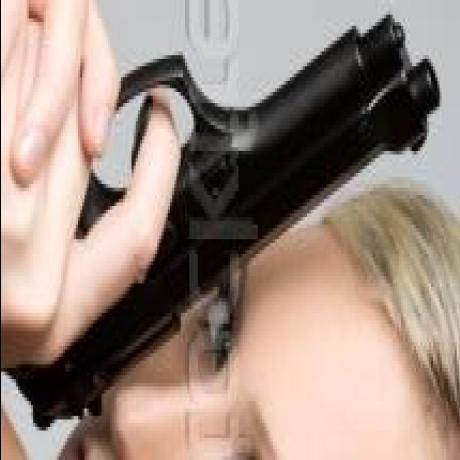1: (2, 219, 458, 456)
weapon: (44, 6, 440, 418)
